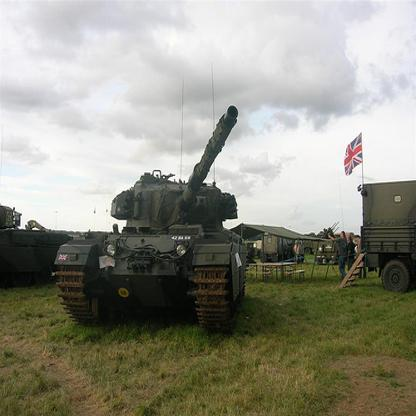Tank: (53, 104, 262, 342)
